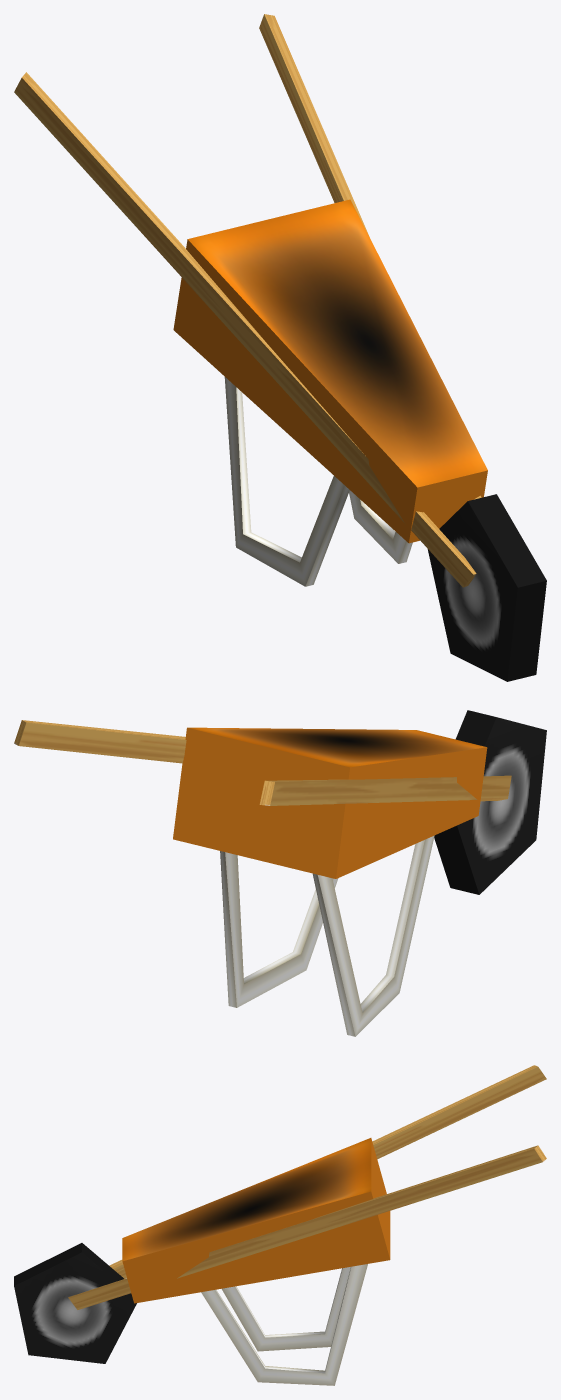
File: WheelBarrow.fbx
3 renders of one model, top to bottom at view 1: azimuth 30°, elevation 25°; view 2: azimuth 150°, elevation 25°; view 3: azimuth 270°, elevation 25°, orthographic. The views are drawn at different scales.
Parts seen in each view (by area): view 1: Maya_File_Assets:TexturedAssetsCurrent:JohnPepper02Assets:wh; view 2: Maya_File_Assets:TexturedAssetsCurrent:JohnPepper02Assets:wh; view 3: Maya_File_Assets:TexturedAssetsCurrent:JohnPepper02Assets:wh.
Boxes of the visible parts, left/top/right/bottom form: Maya_File_Assets:TexturedAssetsCurrent:JohnPepper02Assets:wh: left=14, top=14, right=546, bottom=681; Maya_File_Assets:TexturedAssetsCurrent:JohnPepper02Assets:wh: left=14, top=710, right=546, bottom=1036; Maya_File_Assets:TexturedAssetsCurrent:JohnPepper02Assets:wh: left=14, top=1065, right=546, bottom=1385.
Bounding box in the file's own units: 0.6865 × 0.978 × 1.83.
